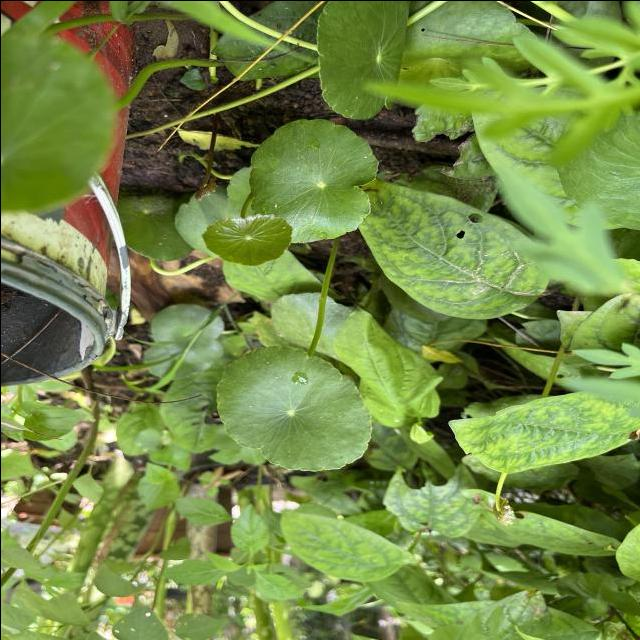Bacopa monnieri: (211, 343, 374, 474), (245, 115, 382, 247), (199, 209, 296, 269)
